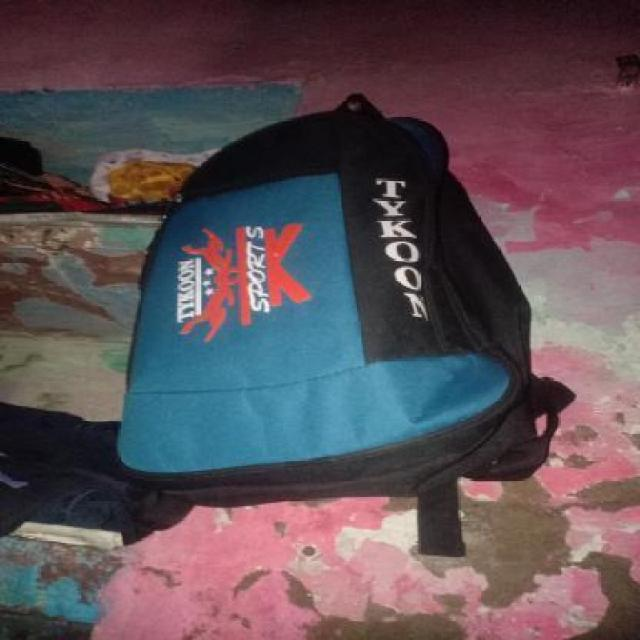backpack: (106, 89, 583, 514)
